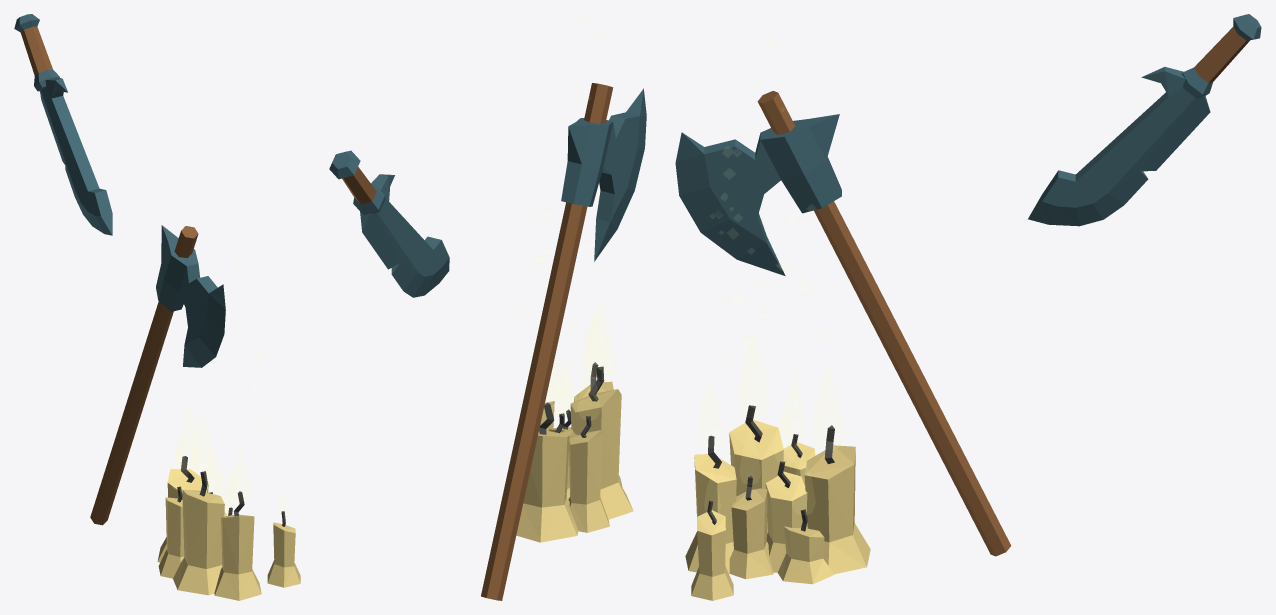
3 renders of one model, left to right at view 1: azimuth 30°, elevation 25°; view 2: azimuth 150°, elevation 25°; view 3: azimuth 270°, elevation 25°, orthographic. The views are drawn at different scales.
Parts seen in each view (by area): view 1: Cylinder1612_yellow2_0, Plane267_metal_0, Cylinder1562_metal_0, Line1358_brown_0, Cylinder1562_brown_0, Cylinder1612_L_fire_0, Cylinder1612_black_0; view 2: Cylinder1612_yellow2_0, Line1358_brown_0, Plane267_metal_0, Cylinder1562_metal_0, Cylinder1612_L_fire_0, Cylinder1612_black_0, Cylinder1562_brown_0; view 3: Cylinder1612_yellow2_0, Plane267_metal_0, Cylinder1562_metal_0, Line1358_brown_0, Cylinder1612_black_0, Cylinder1562_brown_0.
Part boxes in pixels (x1,y1,x2,y2): Cylinder1612_yellow2_0: [157, 469, 300, 600]; Plane267_metal_0: [156, 225, 225, 367]; Cylinder1562_metal_0: [14, 14, 112, 235]; Line1358_brown_0: [90, 226, 198, 525]; Cylinder1562_brown_0: [20, 26, 52, 75]; Cylinder1612_L_fire_0: [175, 434, 238, 510]; Cylinder1612_black_0: [177, 456, 285, 526]; Cylinder1612_yellow2_0: [516, 381, 633, 542]; Line1358_brown_0: [481, 83, 613, 600]; Plane267_metal_0: [561, 88, 646, 261]; Cylinder1562_metal_0: [329, 150, 449, 297]; Cylinder1612_L_fire_0: [546, 312, 607, 415]; Cylinder1612_black_0: [539, 362, 604, 437]; Cylinder1562_brown_0: [342, 167, 376, 204]; Cylinder1612_yellow2_0: [685, 419, 870, 600]; Plane267_metal_0: [675, 114, 841, 275]; Cylinder1562_metal_0: [1028, 14, 1261, 226]; Line1358_brown_0: [757, 91, 1011, 556]; Cylinder1612_black_0: [707, 405, 834, 531]; Cylinder1562_brown_0: [1194, 27, 1250, 82].
Bounding box in the file's own units: 55.92 × 214 × 205.
